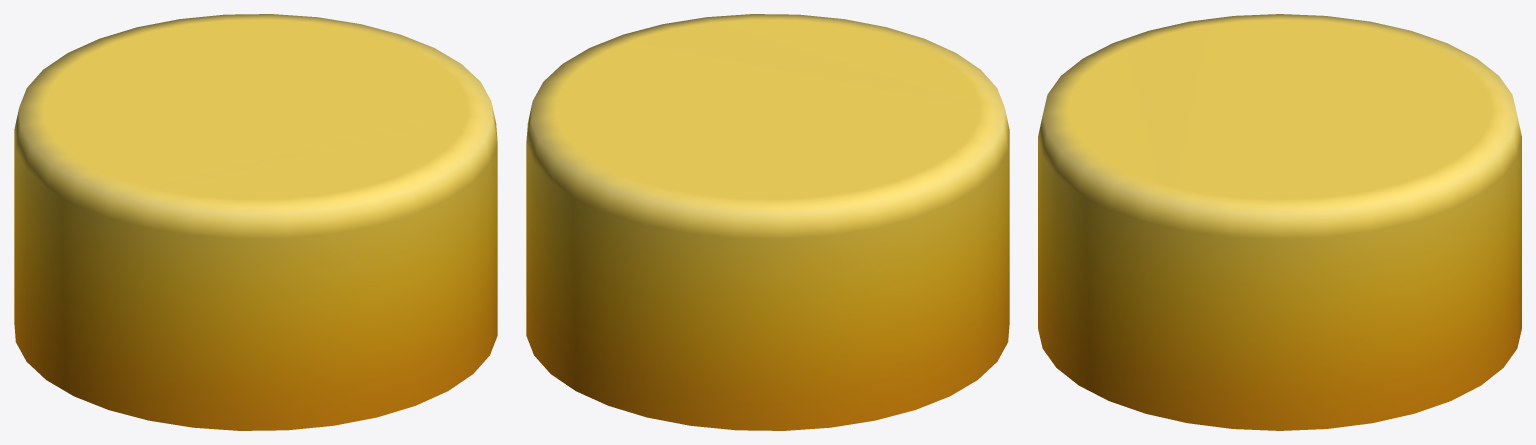
Rendered from Big_VCilinder.fbx.
3 views of the same model, side by side, from view 1: azimuth 30°, elevation 25°; view 2: azimuth 150°, elevation 25°; view 3: azimuth 270°, elevation 25° (orthographic).
Visible parts, largest first — view 1: Circle.002; view 2: Circle.002; view 3: Circle.002.
Boxes of the visible parts, bbox=[...] form: Circle.002: bbox=[14, 14, 497, 430]; Circle.002: bbox=[526, 14, 1009, 430]; Circle.002: bbox=[1038, 14, 1521, 430].
Size of the model in its own units: 200 by 99.83 by 200.
